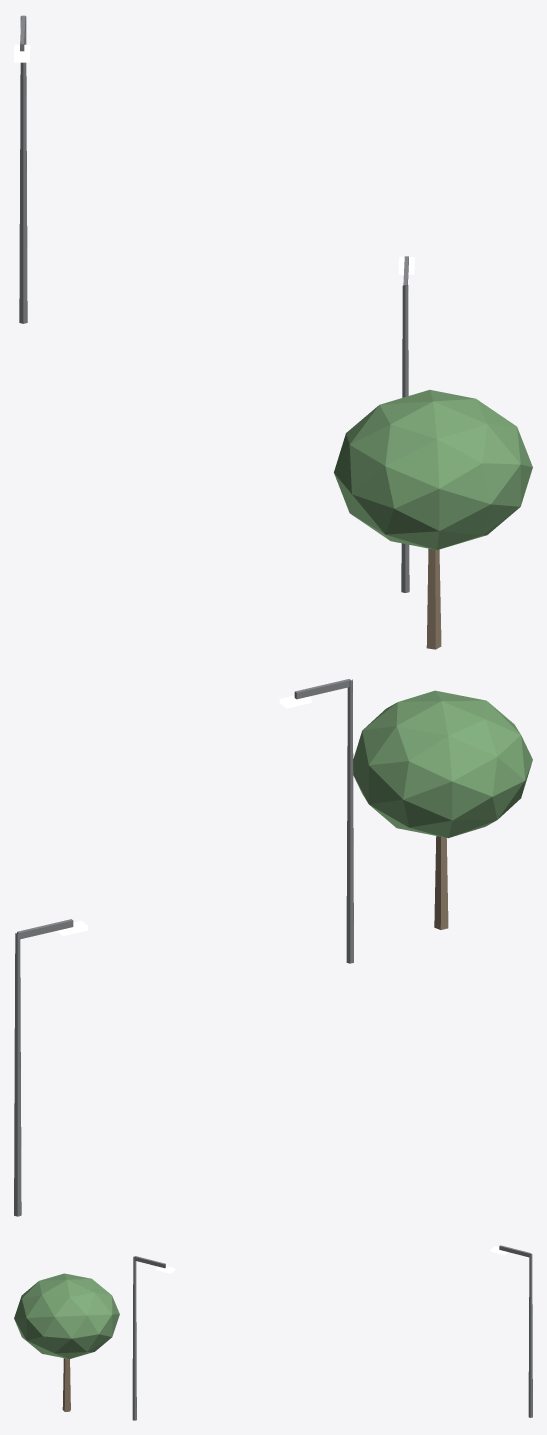
Rendered from nature_-7_-5.glb.
3 views of the same model, one above another, from view 1: azimuth 30°, elevation 25°; view 2: azimuth 150°, elevation 25°; view 3: azimuth 270°, elevation 25° (orthographic). The views are drawn at different scales.
Visible parts, largest first — view 1: foliage_a, lamp_pole, trunk; view 2: foliage_a, lamp_pole, trunk; view 3: foliage_a, lamp_pole, trunk.
Part boxes in pixels (box(x1,y1,x2,y2)): foliage_a: box(334, 389, 532, 549); lamp_pole: box(19, 15, 409, 592); trunk: box(426, 548, 441, 649); foliage_a: box(353, 690, 532, 838); lamp_pole: box(14, 679, 353, 1216); trunk: box(434, 836, 448, 929); foliage_a: box(14, 1273, 119, 1358); lamp_pole: box(132, 1245, 532, 1420); trunk: box(62, 1358, 70, 1411).
Bounding box in the file's own units: 3.82 × 6.5 × 18.72.
